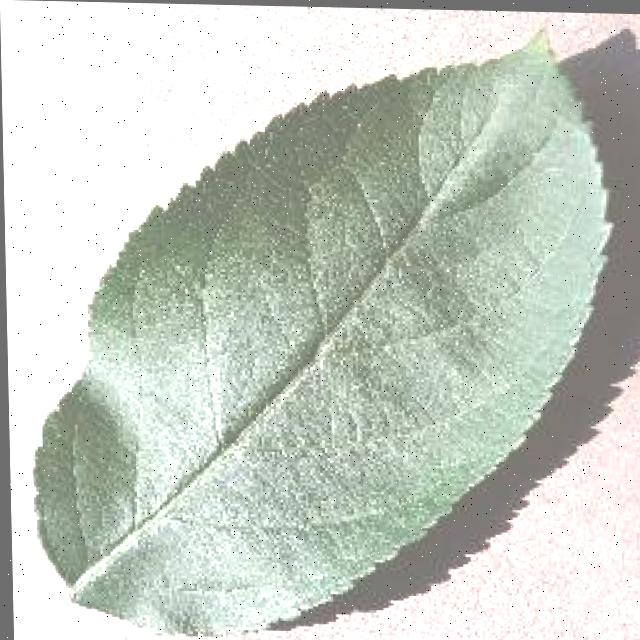healthy: (17, 4, 635, 640)
